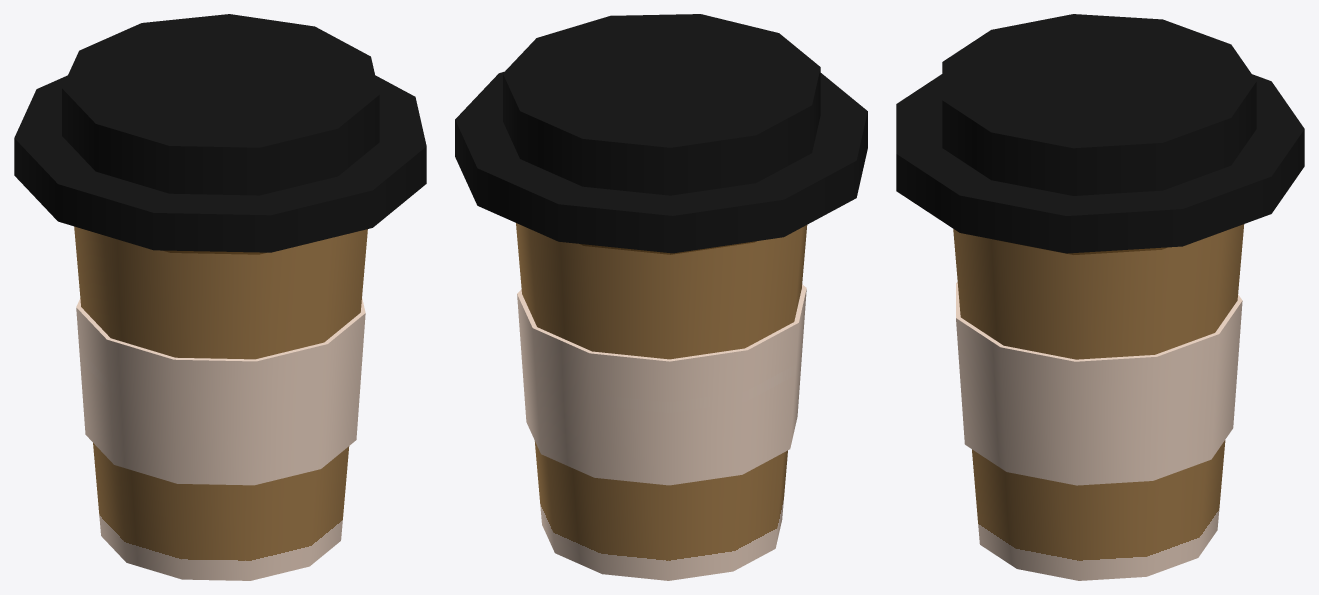
File: cup.glb
3 views of the same model, side by side, from view 1: azimuth 30°, elevation 25°; view 2: azimuth 150°, elevation 25°; view 3: azimuth 270°, elevation 25° (orthographic).
Visible parts, largest first — view 1: Cylinder.003; view 2: Cylinder.003; view 3: Cylinder.003.
Part boxes in pixels (x1=…): Cylinder.003: x1=14, y1=14, x2=426, y2=580; Cylinder.003: x1=455, y1=14, x2=867, y2=580; Cylinder.003: x1=896, y1=14, x2=1304, y2=580.
Size of the model in its own units: 0.3794 by 0.4556 by 0.3756.
Materials: 1 (1 with a texture image).
